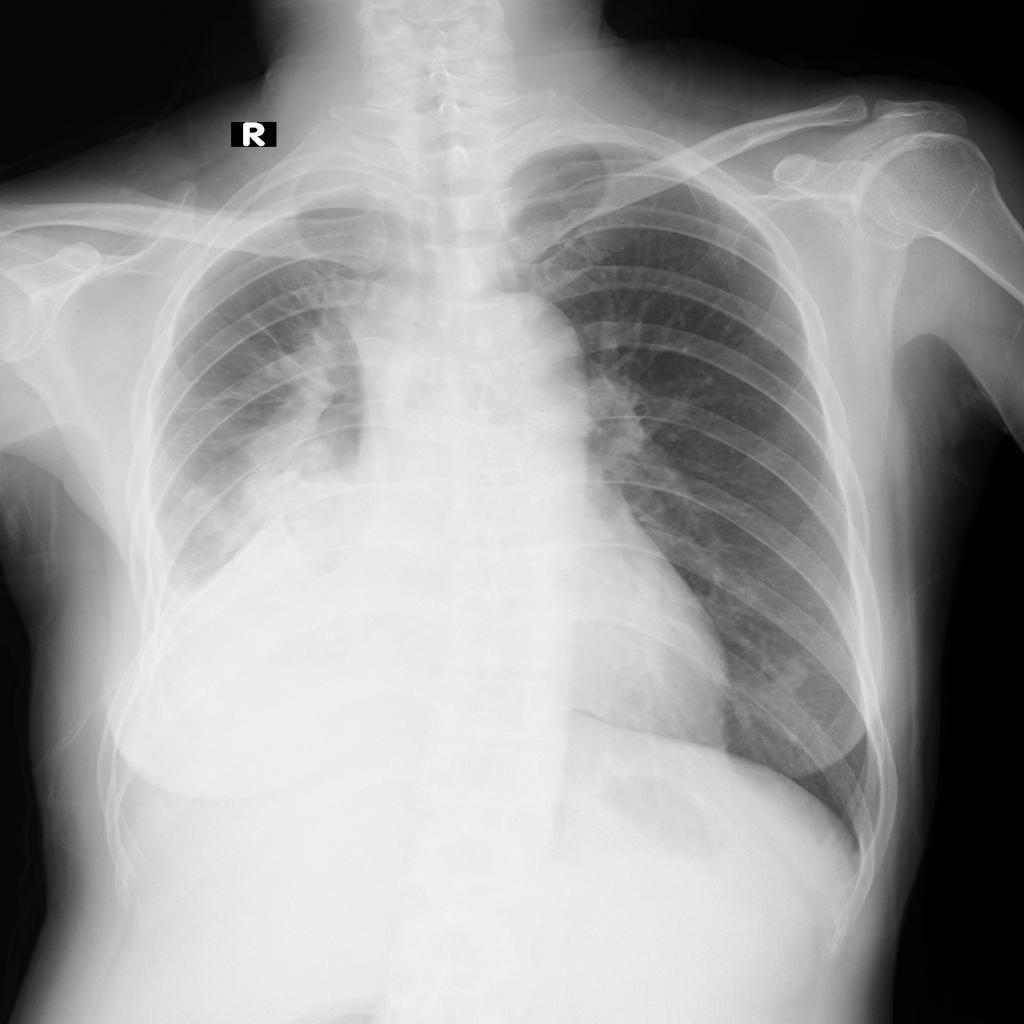Nodule: (761, 652, 807, 688)
